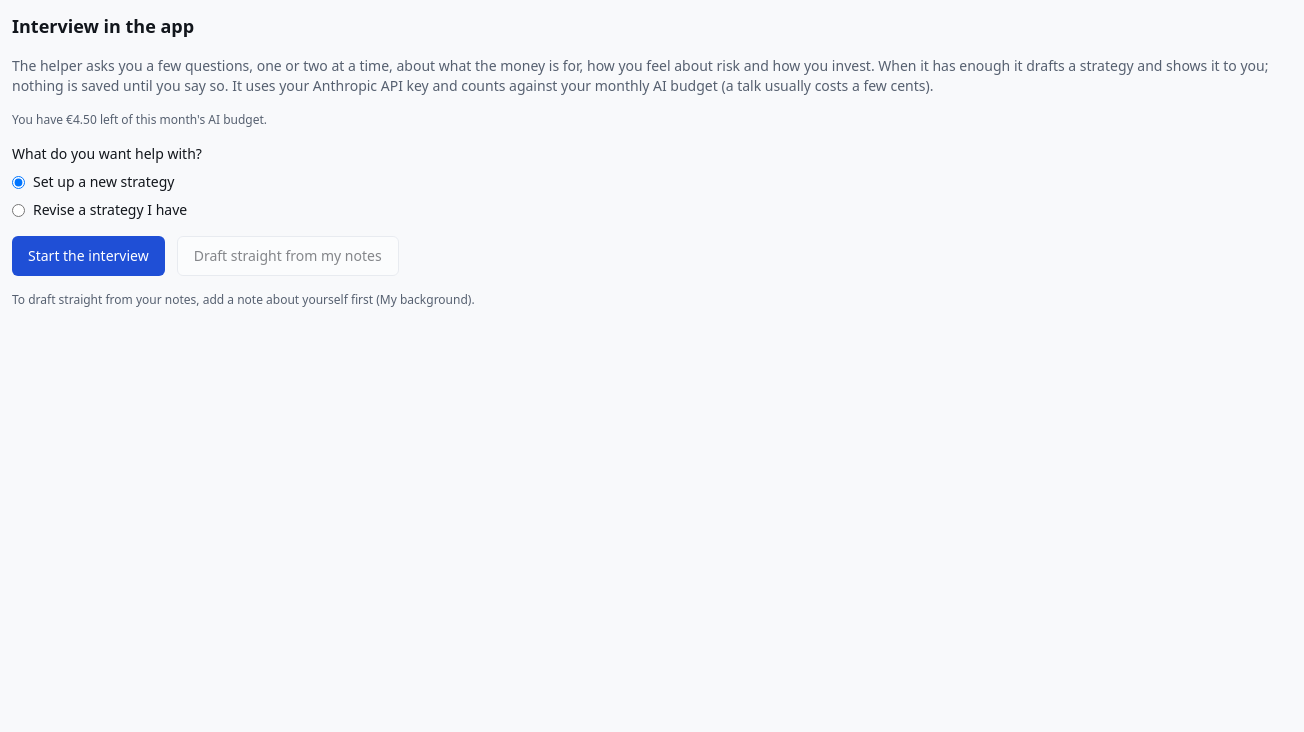
Test case: the strategy interview in the app (ADR 0048) › shows the drafted strategy as sentences with the way to save it
Click the button "Start the interview" at (88, 256), box left=12, top=236, right=165, bottom=276
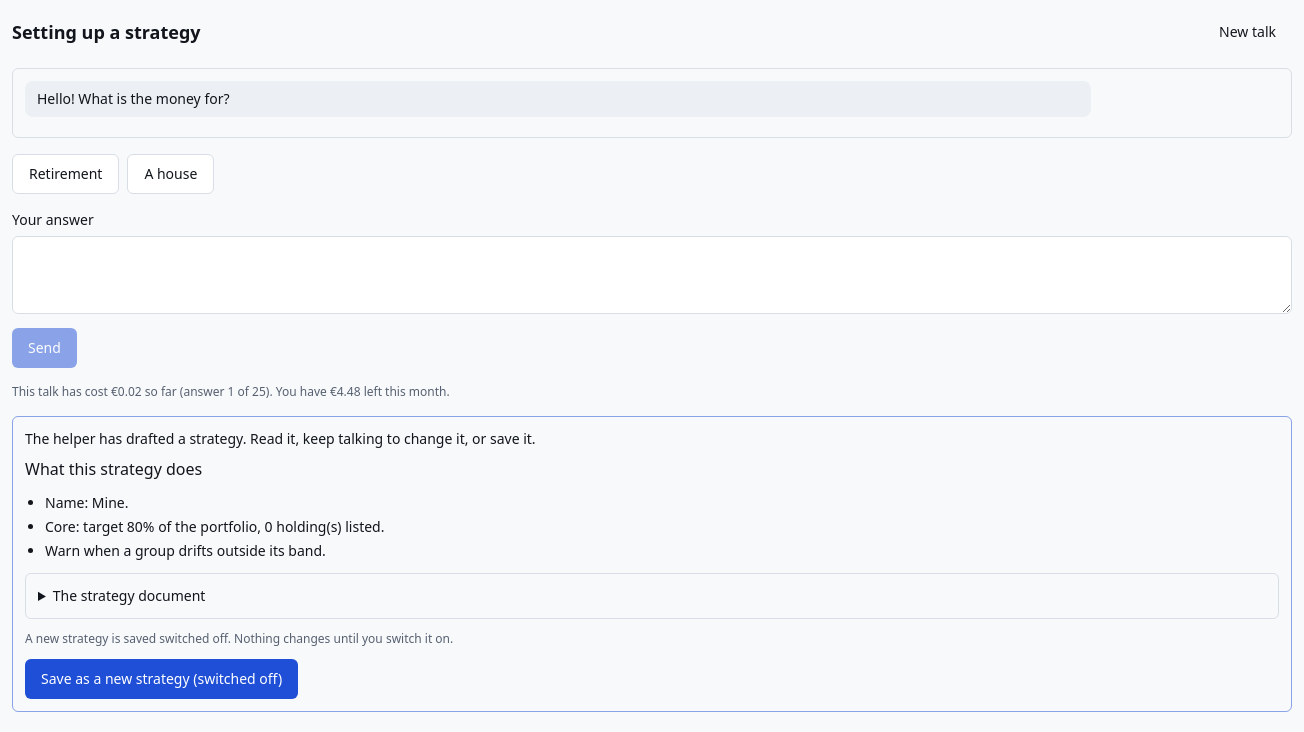
Result: the text "The helper has drafted a strategy" is shown at left=25, top=429, right=536, bottom=448
Result: the list item "Core: target 80% of the portfolio, 0 holding(s) listed." is shown at left=45, top=517, right=384, bottom=536
Result: the list item "Warn when a group drifts outside its band." is shown at left=45, top=541, right=326, bottom=560
